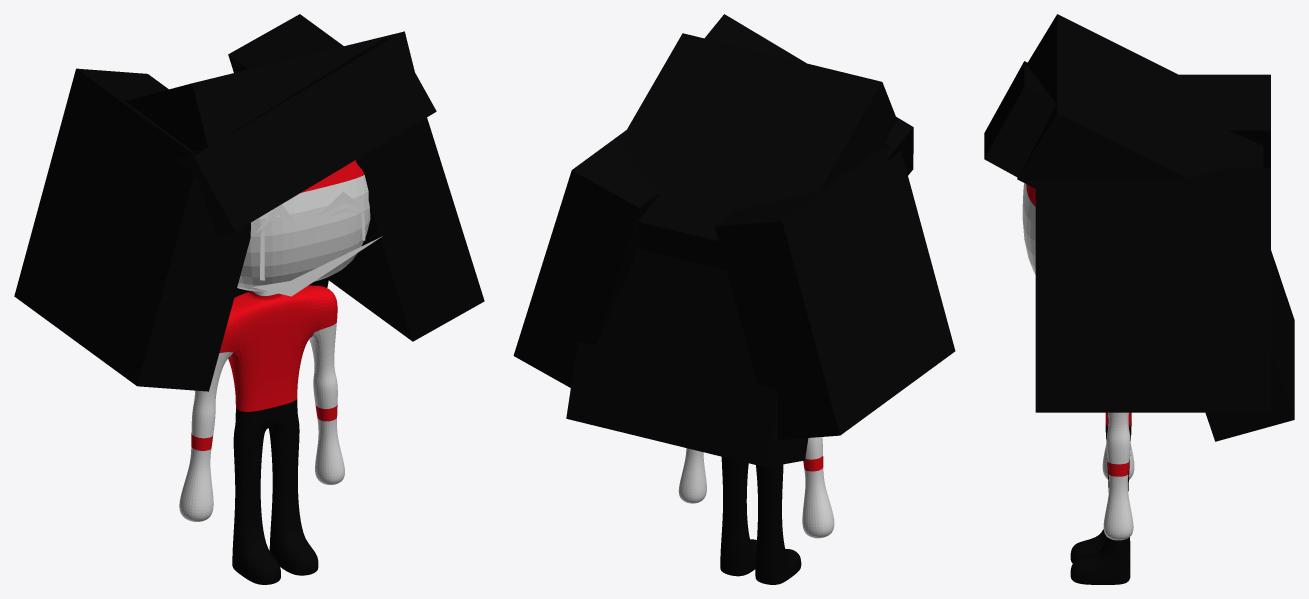
The model's file is hum.fbx.
3 renders of one model, left to right at view 1: azimuth 30°, elevation 25°; view 2: azimuth 150°, elevation 25°; view 3: azimuth 270°, elevation 25°, orthographic. The views are drawn at different scales.
Parts seen in each view (by area): view 1: Cube; view 2: Cube; view 3: Cube.
Part boxes in pixels (left/top/right/bottom): Cube: left=14, top=14, right=484, bottom=584; Cube: left=513, top=14, right=955, bottom=584; Cube: left=984, top=14, right=1294, bottom=584.
Size of the model in its own units: 135 by 201 by 109.
